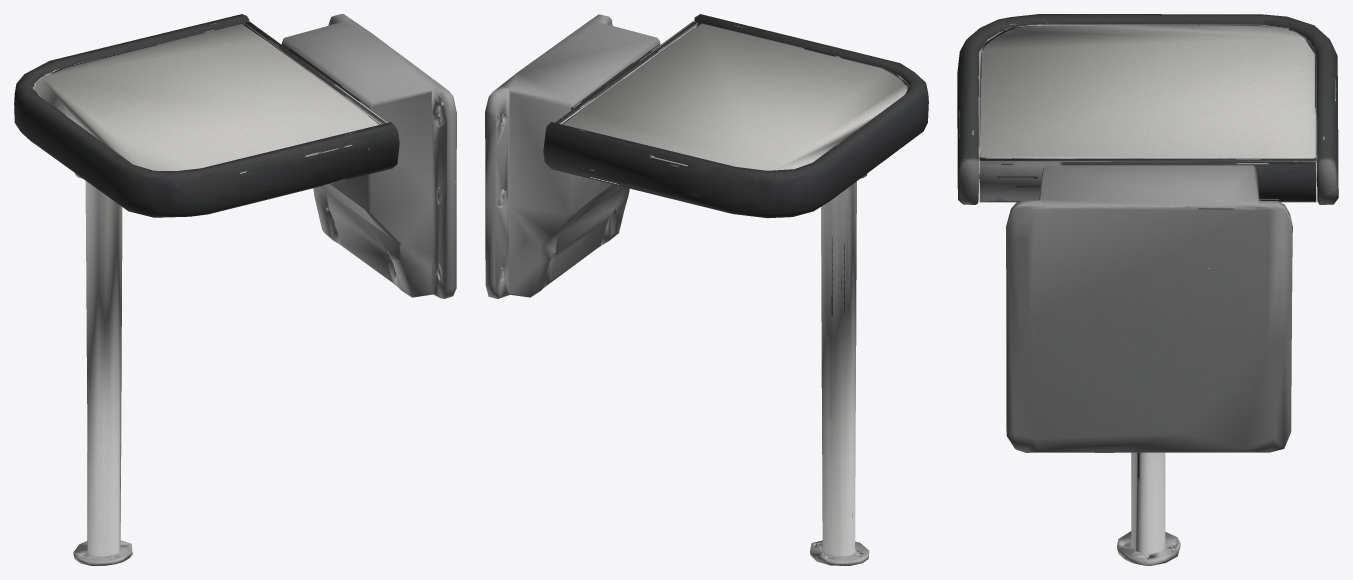
Rendered from poyta.glb.
3 views of the same model, side by side, from view 1: azimuth 30°, elevation 25°; view 2: azimuth 150°, elevation 25°; view 3: azimuth 270°, elevation 25° (orthographic). The views are drawn at different scales.
Visible parts, largest first — view 1: poyta; view 2: poyta; view 3: poyta.
Boxes of the visible parts, x1,y1,x2,y2 form: poyta: [14, 14, 456, 565]; poyta: [485, 14, 928, 565]; poyta: [957, 14, 1338, 565].
Size of the model in its own units: 0.5985 by 0.7499 by 0.4983.
Materials: 1 (1 with a texture image).
